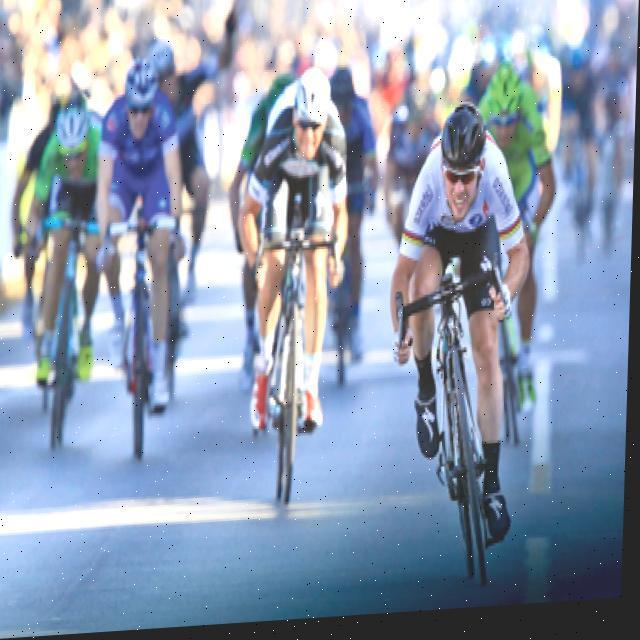Helmet: (436, 104, 492, 230), (286, 60, 340, 168)
